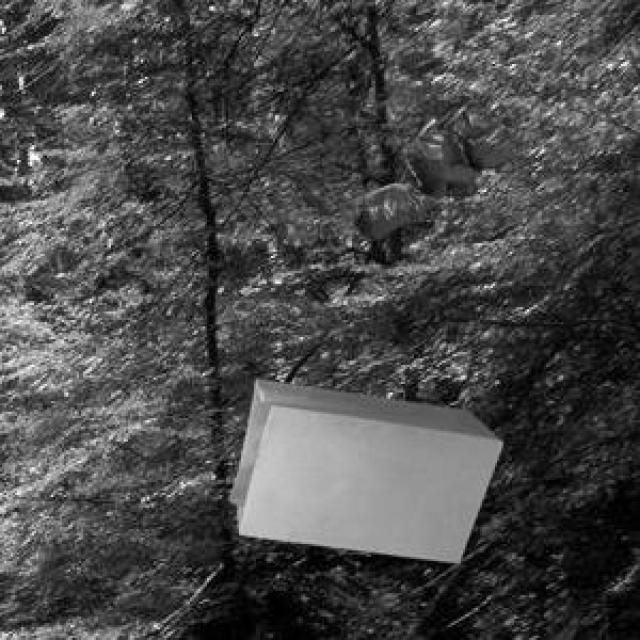miscellaneous trash: (350, 100, 527, 239)
paper: (226, 377, 499, 559)
